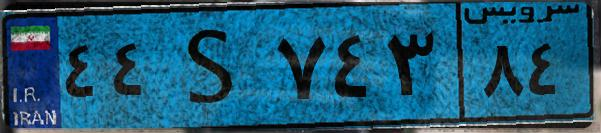3: (385, 28, 445, 110)
4: (330, 28, 385, 110), (57, 26, 110, 100), (525, 38, 570, 115), (110, 28, 158, 98)
7: (270, 28, 330, 110)
8: (475, 38, 525, 113)
S: (158, 12, 270, 120)
